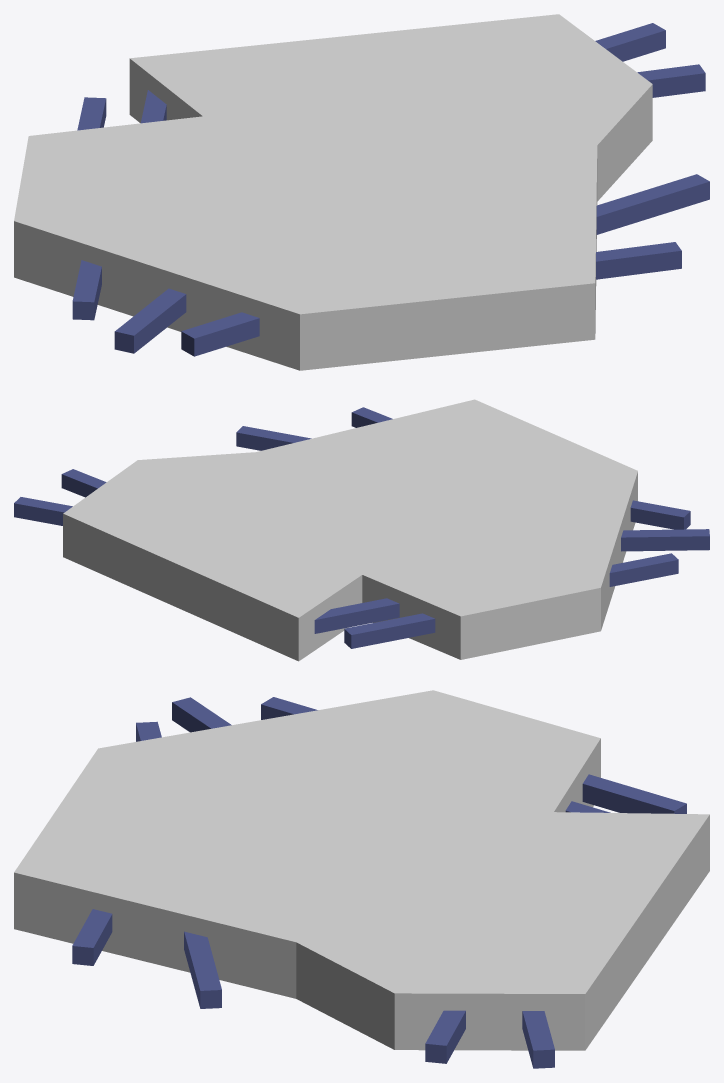
Rendered from ConcreteDebris3.FBX.
The picture shows the model from 3 angles, top to bottom: view 1: azimuth 30°, elevation 25°; view 2: azimuth 150°, elevation 25°; view 3: azimuth 270°, elevation 25°; orthographic projection. The views are drawn at different scales.
Visible parts, largest first — view 1: ConcreteDebris3; view 2: ConcreteDebris3; view 3: ConcreteDebris3.
Part boxes in pixels (x1,y1,x2,y2): ConcreteDebris3: (14,14,709,370); ConcreteDebris3: (14,399,709,661); ConcreteDebris3: (14,690,709,1068).
Bounding box in the file's own units: 60.2 × 4.49 × 50.04.
